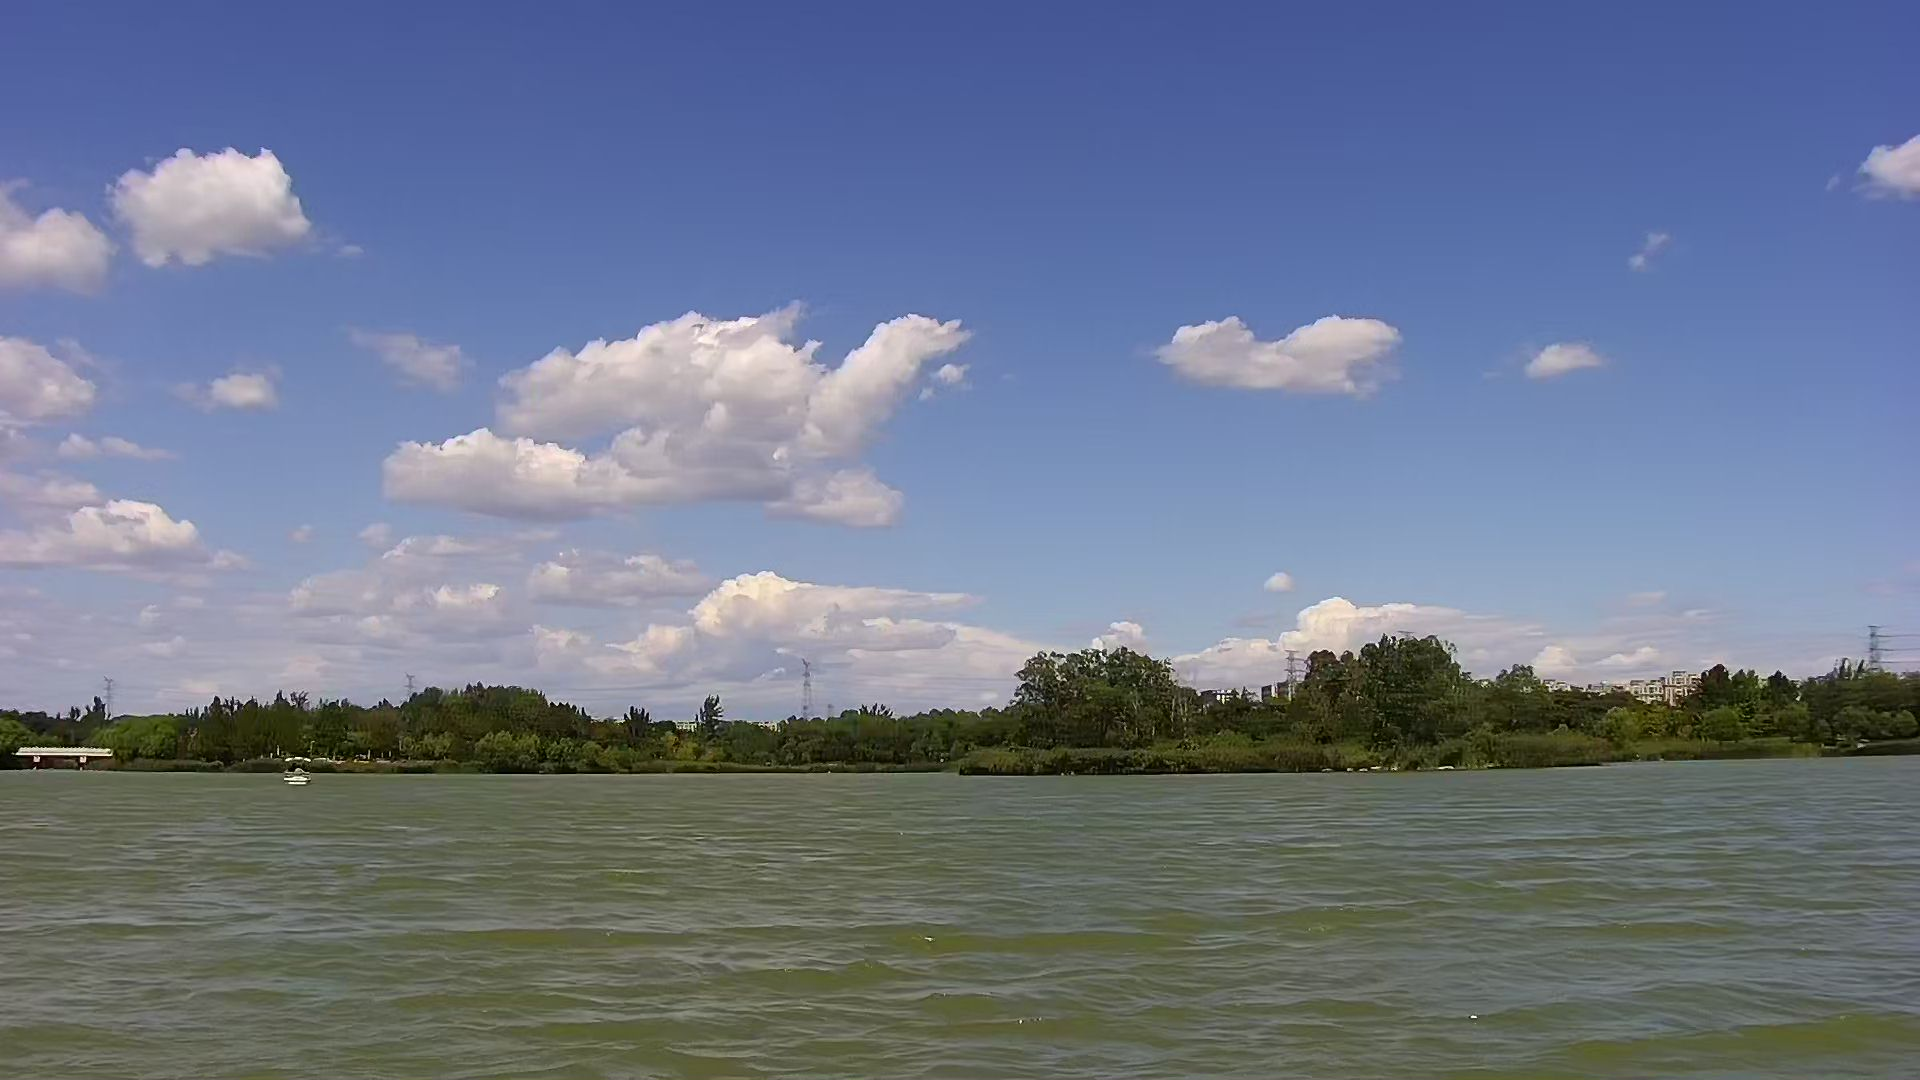boat: (282, 756, 313, 790)
bridge: (11, 740, 119, 782)
